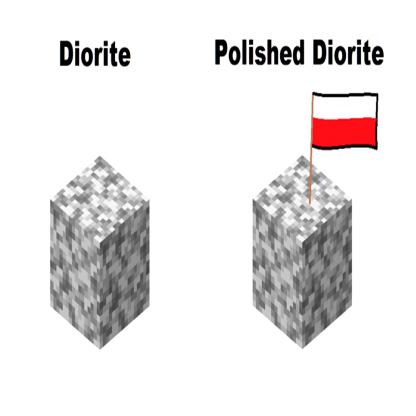Igneous_Diorite: (243, 144, 369, 360), (41, 155, 158, 353)
